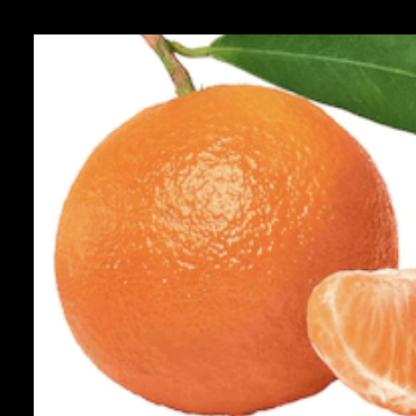fresh: (56, 80, 399, 416)
